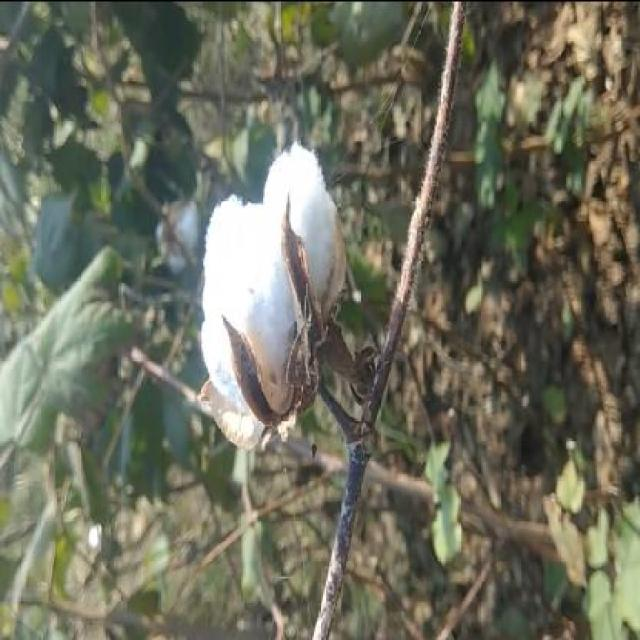cotton_ready: (195, 125, 398, 477)
